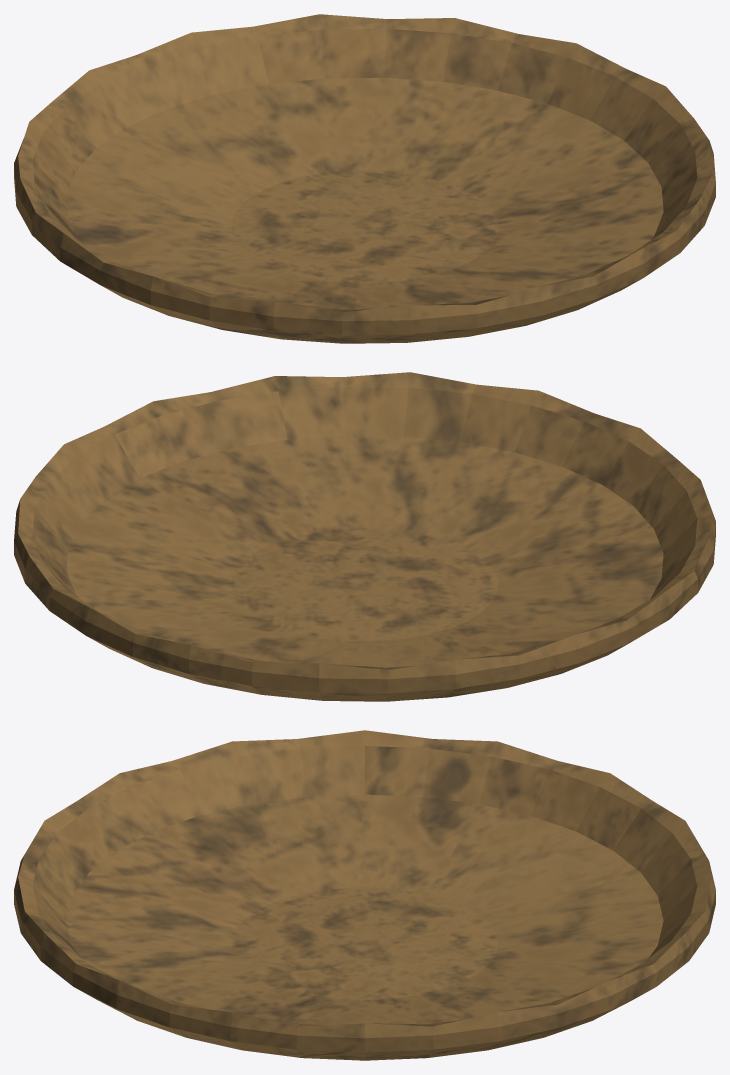
The model's file is Plate_1_JBischer.fbx.
The picture shows the model from 3 angles, top to bottom: view 1: azimuth 30°, elevation 25°; view 2: azimuth 150°, elevation 25°; view 3: azimuth 270°, elevation 25°; orthographic projection.
Visible parts, largest first — view 1: Cylinder; view 2: Cylinder; view 3: Cylinder.
Part boxes in pixels (bbox=[...]): Cylinder: bbox=[14, 14, 715, 343]; Cylinder: bbox=[14, 372, 715, 701]; Cylinder: bbox=[14, 730, 715, 1060].
Bounding box in the file's own units: 337 × 51.25 × 337.
